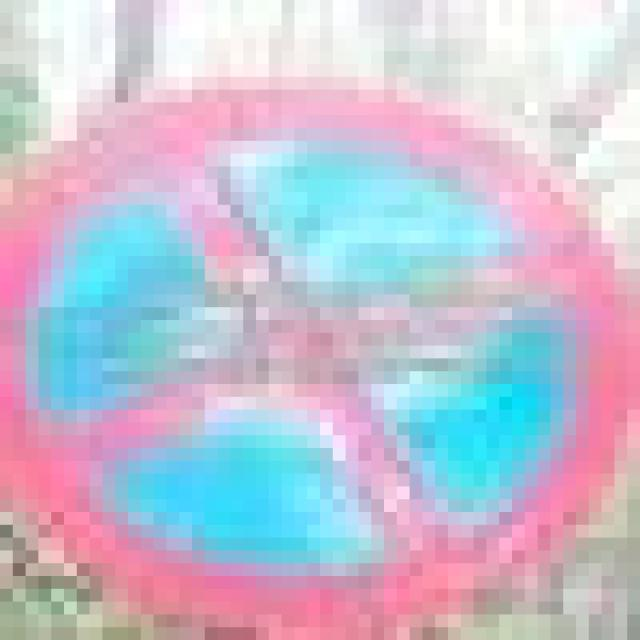no_parking: (0, 64, 627, 627)
